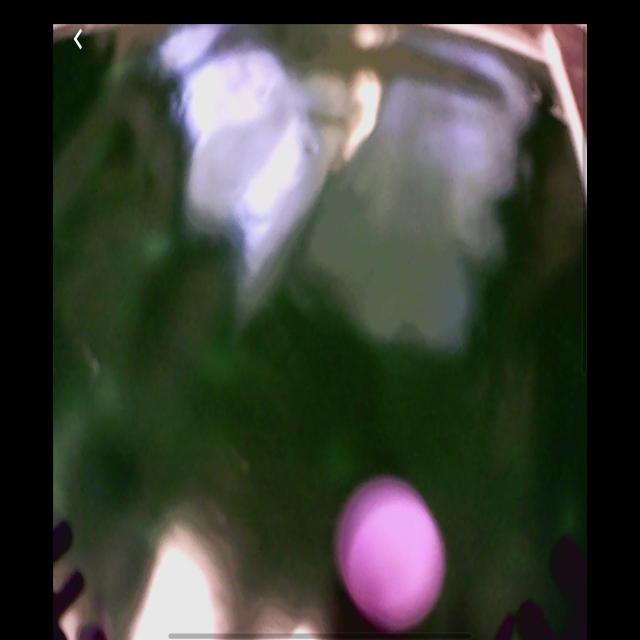ball: (341, 483, 447, 637)
